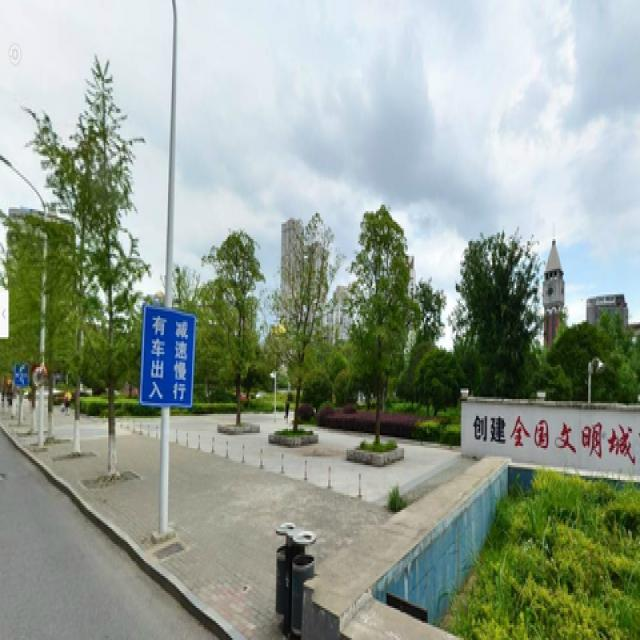gink: (81, 72, 135, 472)
